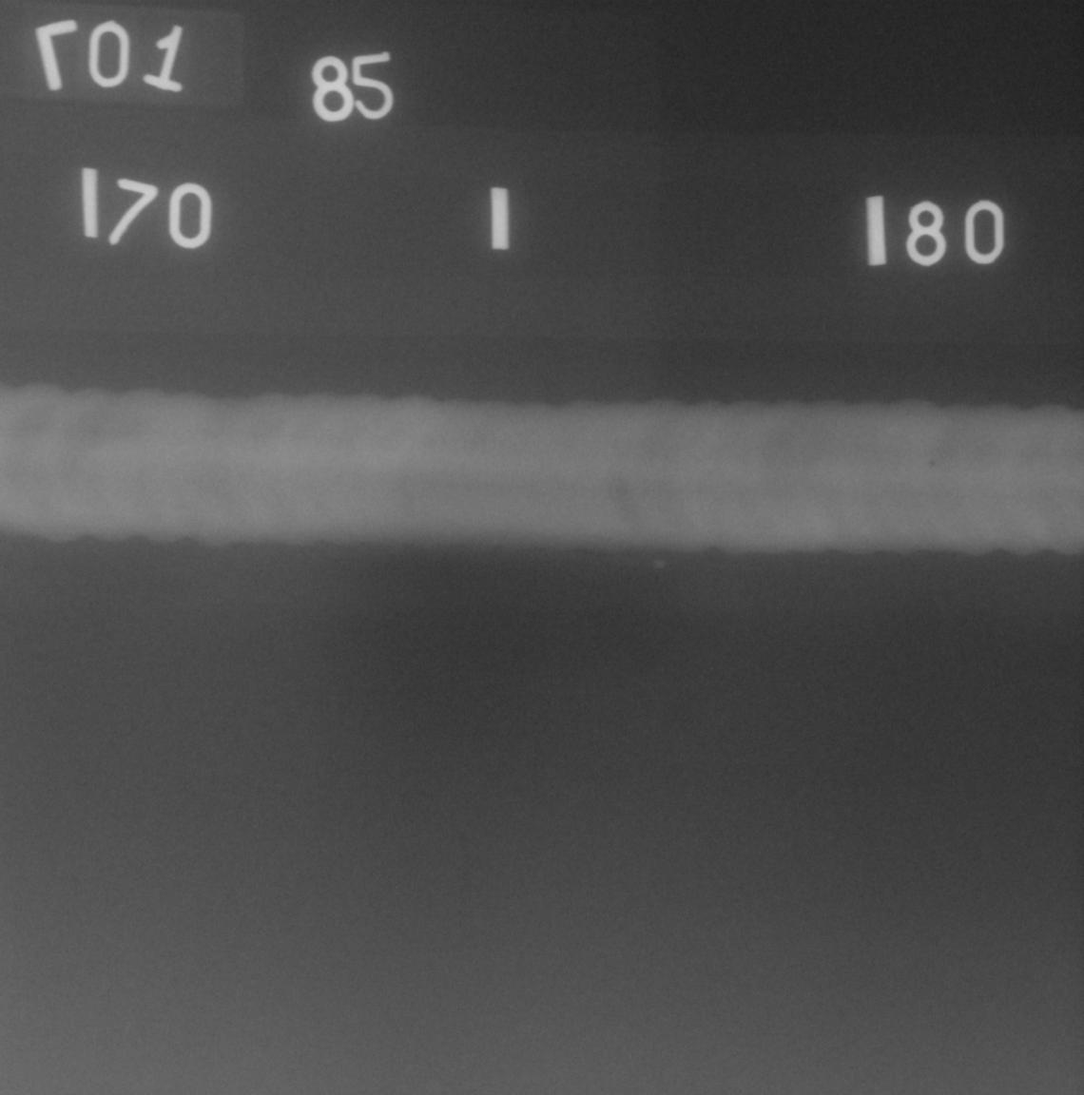Pore/Porosity: (928, 460, 935, 467)
